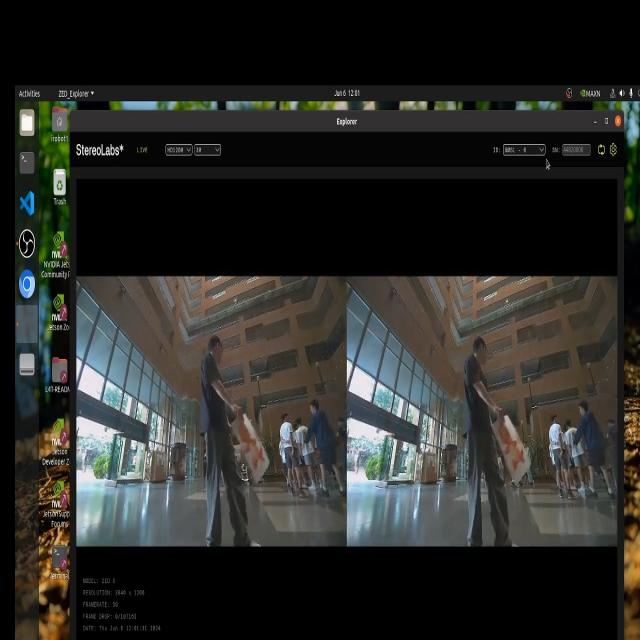red: (238, 418, 270, 476), (500, 417, 530, 468)
